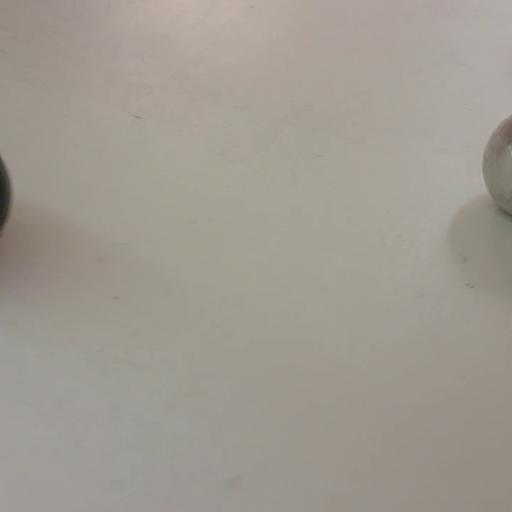alive: (484, 113, 512, 217)
dead: (0, 149, 12, 237)
